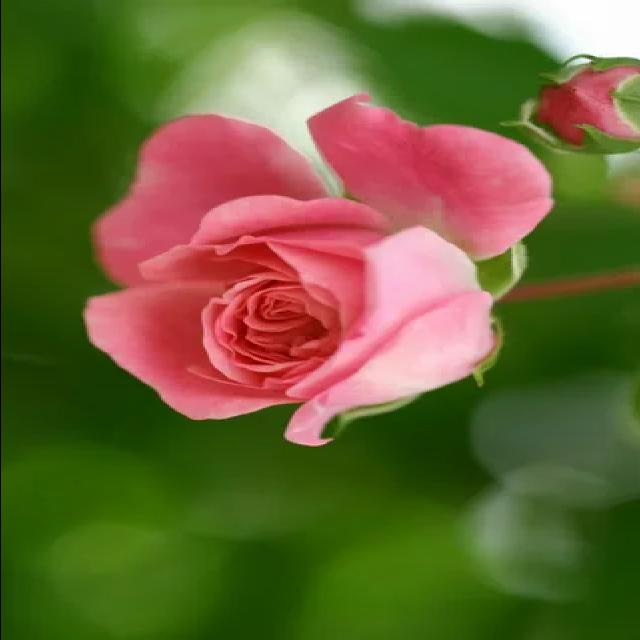rose: (70, 93, 564, 456)
